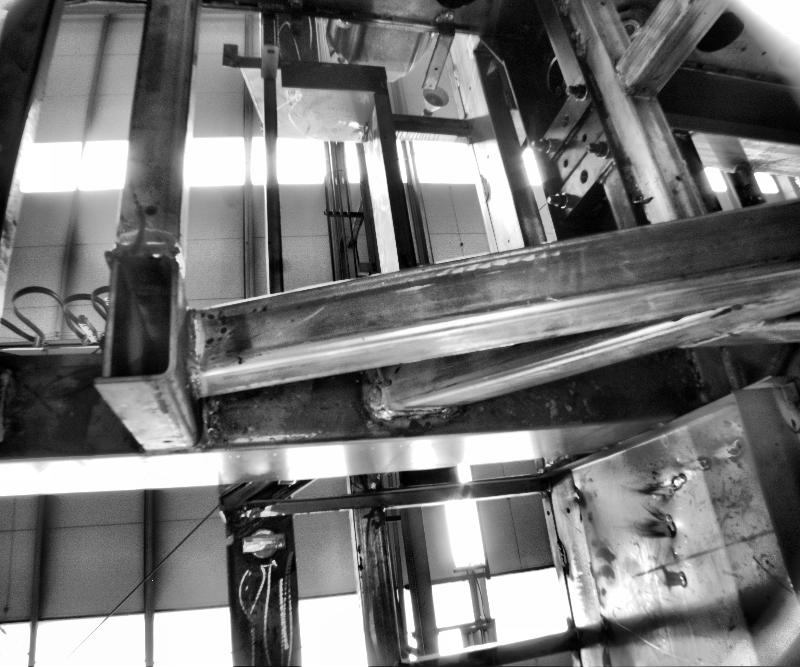bolt: (564, 77, 588, 98), (586, 140, 614, 157), (544, 189, 568, 206), (530, 136, 551, 150)
bracket: (528, 73, 626, 216), (421, 7, 457, 89), (258, 30, 278, 77)
hole: (141, 199, 159, 216), (560, 111, 572, 124), (380, 376, 394, 387), (578, 169, 588, 184), (161, 438, 171, 445), (562, 157, 568, 167), (582, 131, 588, 141), (504, 236, 512, 243), (676, 173, 682, 181), (265, 45, 273, 51), (426, 80, 432, 87), (433, 65, 439, 71), (565, 506, 571, 512), (545, 509, 549, 514), (468, 86, 470, 90)
welding: (370, 403, 454, 419), (182, 309, 202, 370), (365, 366, 389, 415), (555, 540, 567, 571), (450, 66, 460, 86), (434, 9, 454, 18)
